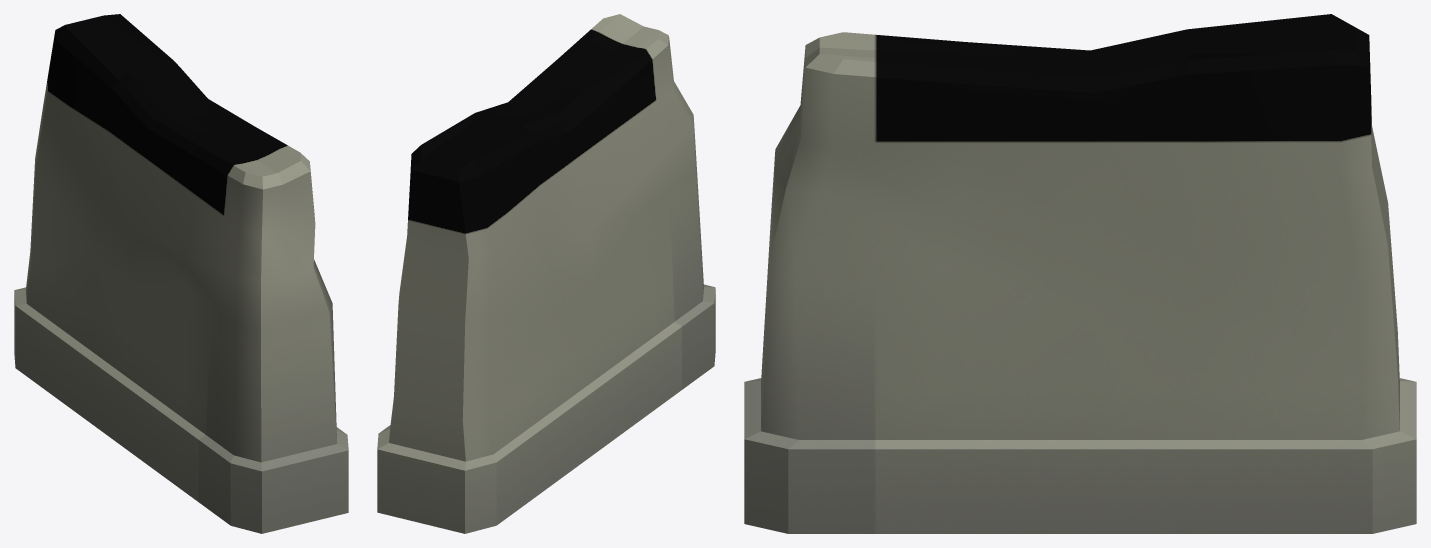
Rendered from wall03.fbx.
3 renders of one model, left to right at view 1: azimuth 30°, elevation 25°; view 2: azimuth 150°, elevation 25°; view 3: azimuth 270°, elevation 25°, orthographic. The views are drawn at different scales.
Visible parts, largest first — view 1: wall03; view 2: wall03; view 3: wall03.
Part boxes in pixels (x1,y1,x2,y2): wall03: (14, 14, 348, 533); wall03: (377, 14, 715, 533); wall03: (744, 14, 1416, 533).
Bounding box in the file's own units: 1.34 × 3.8 × 4.92.
